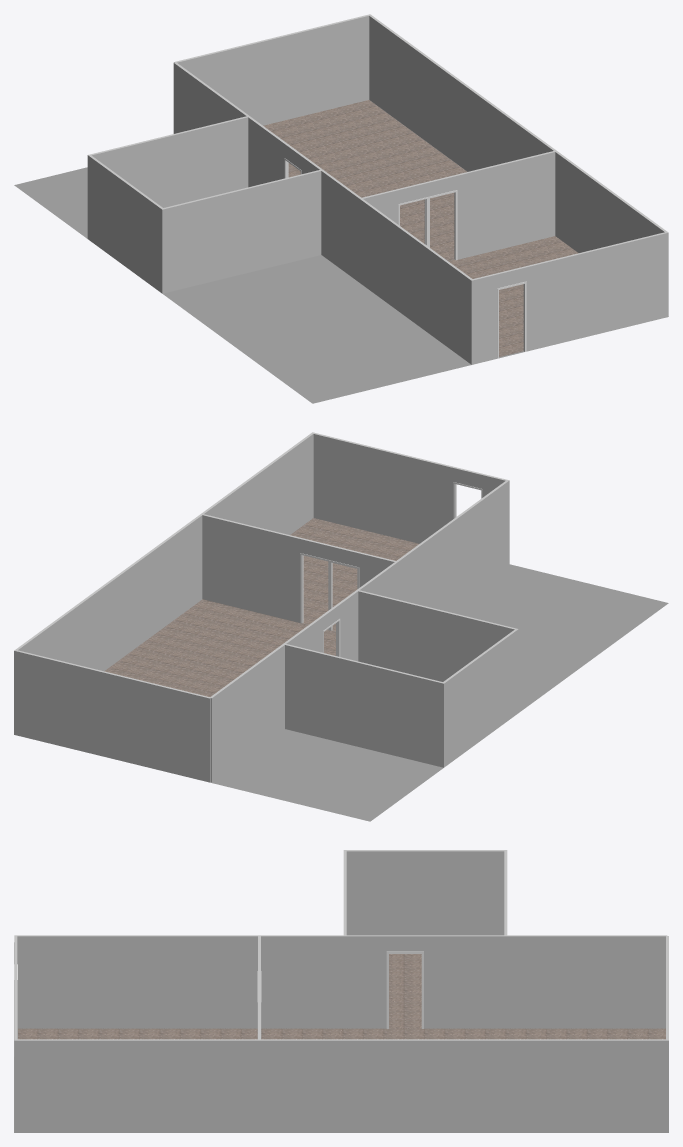
Rendered from estructura cerveceria.obj.
3 views of the same model, one above another, from view 1: azimuth 30°, elevation 25°; view 2: azimuth 150°, elevation 25°; view 3: azimuth 270°, elevation 25° (orthographic). The views are drawn at different scales.
Parts seen in each view (by area): view 1: ground_1, wall_2_11, wall_3_16, wall_5_28, room_11_62, wall_8_46, wall_1_5, wall_4_23, wall_7_41, wall_6_34, room_12_63, wall_10_58 (+1 smaller); view 2: ground_1, wall_2_11, wall_1_4, wall_7_40, wall_3_17, room_11_62, wall_4_22, wall_8_46, wall_5_29, wall_6_34, wall_10_58, room_12_63 (+1 smaller); view 3: wall_2_10, wall_8_47, wall_10_59, wall_6_35, wall_9_53, room_11_62, room_12_63, room_13_64, wall_2_12, wall_2_13, Montant_65.
Part boxes in pixels (bbox=[...]): ground_1: bbox=[14, 101, 667, 403]; wall_2_11: bbox=[369, 16, 664, 252]; wall_3_16: bbox=[471, 232, 668, 364]; wall_5_28: bbox=[162, 171, 321, 293]; room_11_62: bbox=[263, 100, 466, 260]; wall_8_46: bbox=[321, 171, 471, 364]; wall_1_5: bbox=[177, 16, 369, 125]; wall_4_23: bbox=[363, 152, 555, 259]; wall_7_41: bbox=[92, 117, 248, 207]; wall_6_34: bbox=[87, 155, 162, 293]; room_12_63: bbox=[448, 236, 578, 356]; wall_10_58: bbox=[173, 63, 246, 133]; ground_1: bbox=[106, 564, 668, 821]; wall_2_11: bbox=[18, 434, 313, 671]; wall_1_4: bbox=[14, 651, 210, 782]; wall_7_40: bbox=[285, 645, 443, 767]; wall_3_17: bbox=[313, 434, 505, 543]; room_11_62: bbox=[104, 599, 335, 696]; wall_4_22: bbox=[202, 515, 394, 622]; wall_8_46: bbox=[360, 480, 509, 611]; wall_5_29: bbox=[358, 591, 514, 681]; wall_6_34: bbox=[444, 629, 518, 767]; wall_10_58: bbox=[210, 645, 284, 782]; room_12_63: bbox=[290, 518, 419, 631]; wall_2_10: bbox=[14, 1040, 668, 1132]; wall_8_47: bbox=[17, 936, 344, 1028]; wall_10_59: bbox=[506, 936, 665, 1028]; wall_6_35: bbox=[346, 851, 504, 935]; wall_9_53: bbox=[345, 936, 505, 1028]; room_11_62: bbox=[261, 1028, 665, 1039]; room_12_63: bbox=[18, 1028, 257, 1039]; room_13_64: bbox=[389, 954, 421, 1028]; wall_2_12: bbox=[15, 1040, 667, 1040]; wall_2_13: bbox=[17, 1039, 666, 1039]; Montant_65: bbox=[386, 951, 423, 1028].
Size of the model in its own units: 1108 by 250 by 1610.
4 materials, 1 textured.
